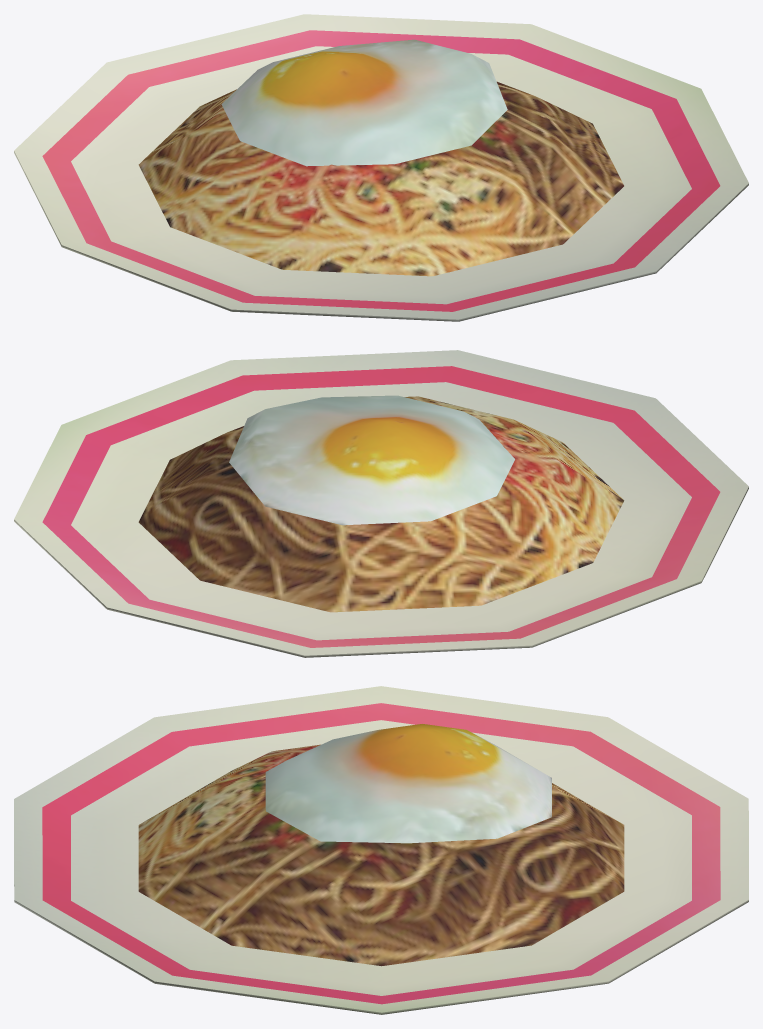
Rendered from prop_foodmenu04.fbx.
3 views of the same model, one above another, from view 1: azimuth 30°, elevation 25°; view 2: azimuth 150°, elevation 25°; view 3: azimuth 270°, elevation 25° (orthographic). The views are drawn at different scales.
Parts seen in each view (by area): view 1: prop_foodmenu04; view 2: prop_foodmenu04; view 3: prop_foodmenu04.
Part boxes in pixels (x1,y1,x2,y2): prop_foodmenu04: (14,14,748,321); prop_foodmenu04: (14,350,748,657); prop_foodmenu04: (14,686,748,1014).
Bounding box in the file's own units: 0.3638 × 0.07 × 0.346.
